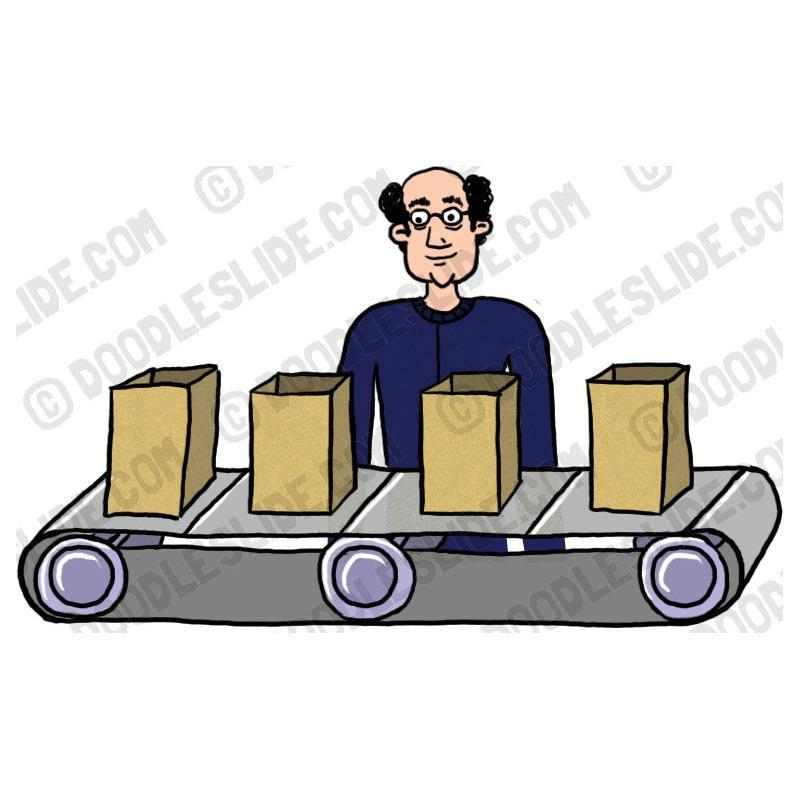person: (321, 165, 581, 557)
